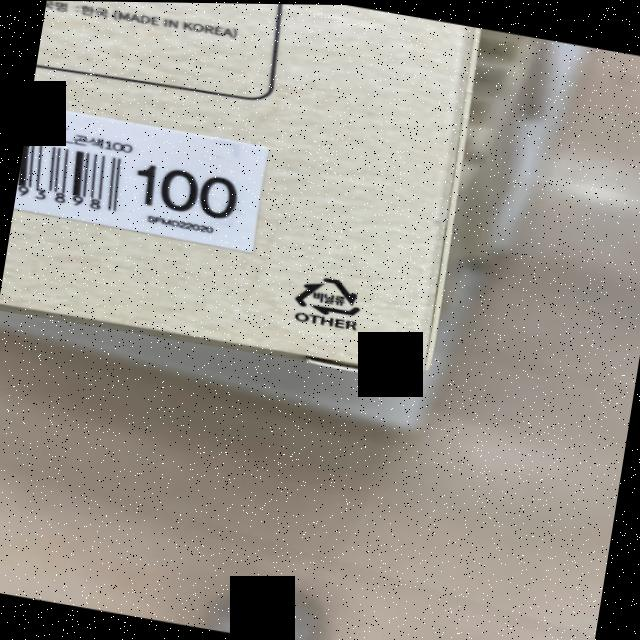Vinyl: (287, 267, 367, 323)
